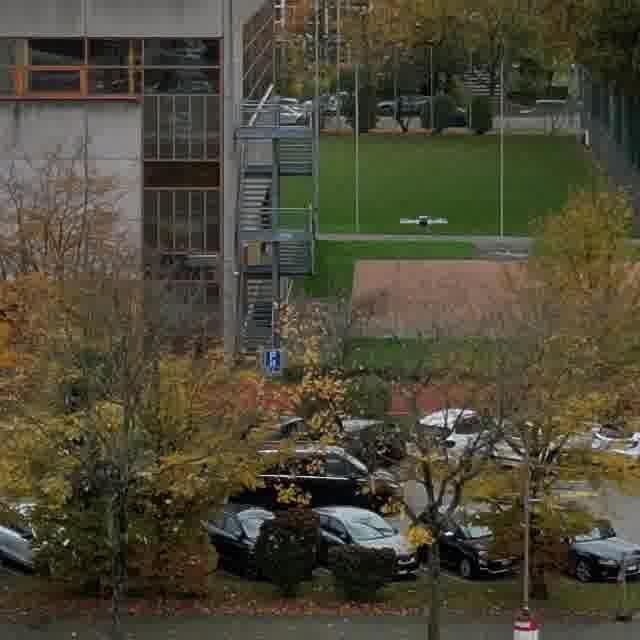Drohne: (401, 215, 447, 226)
